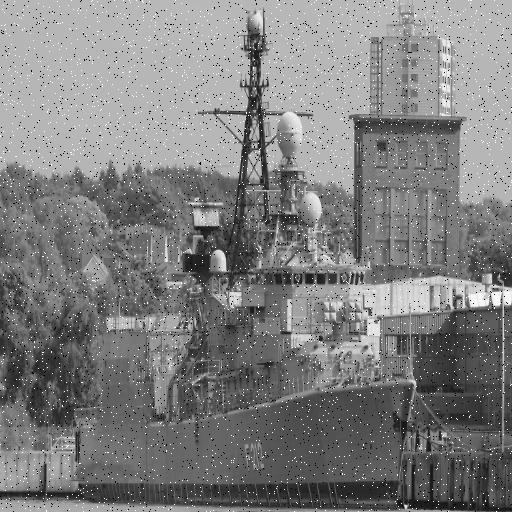Fragata: (70, 3, 420, 508)
